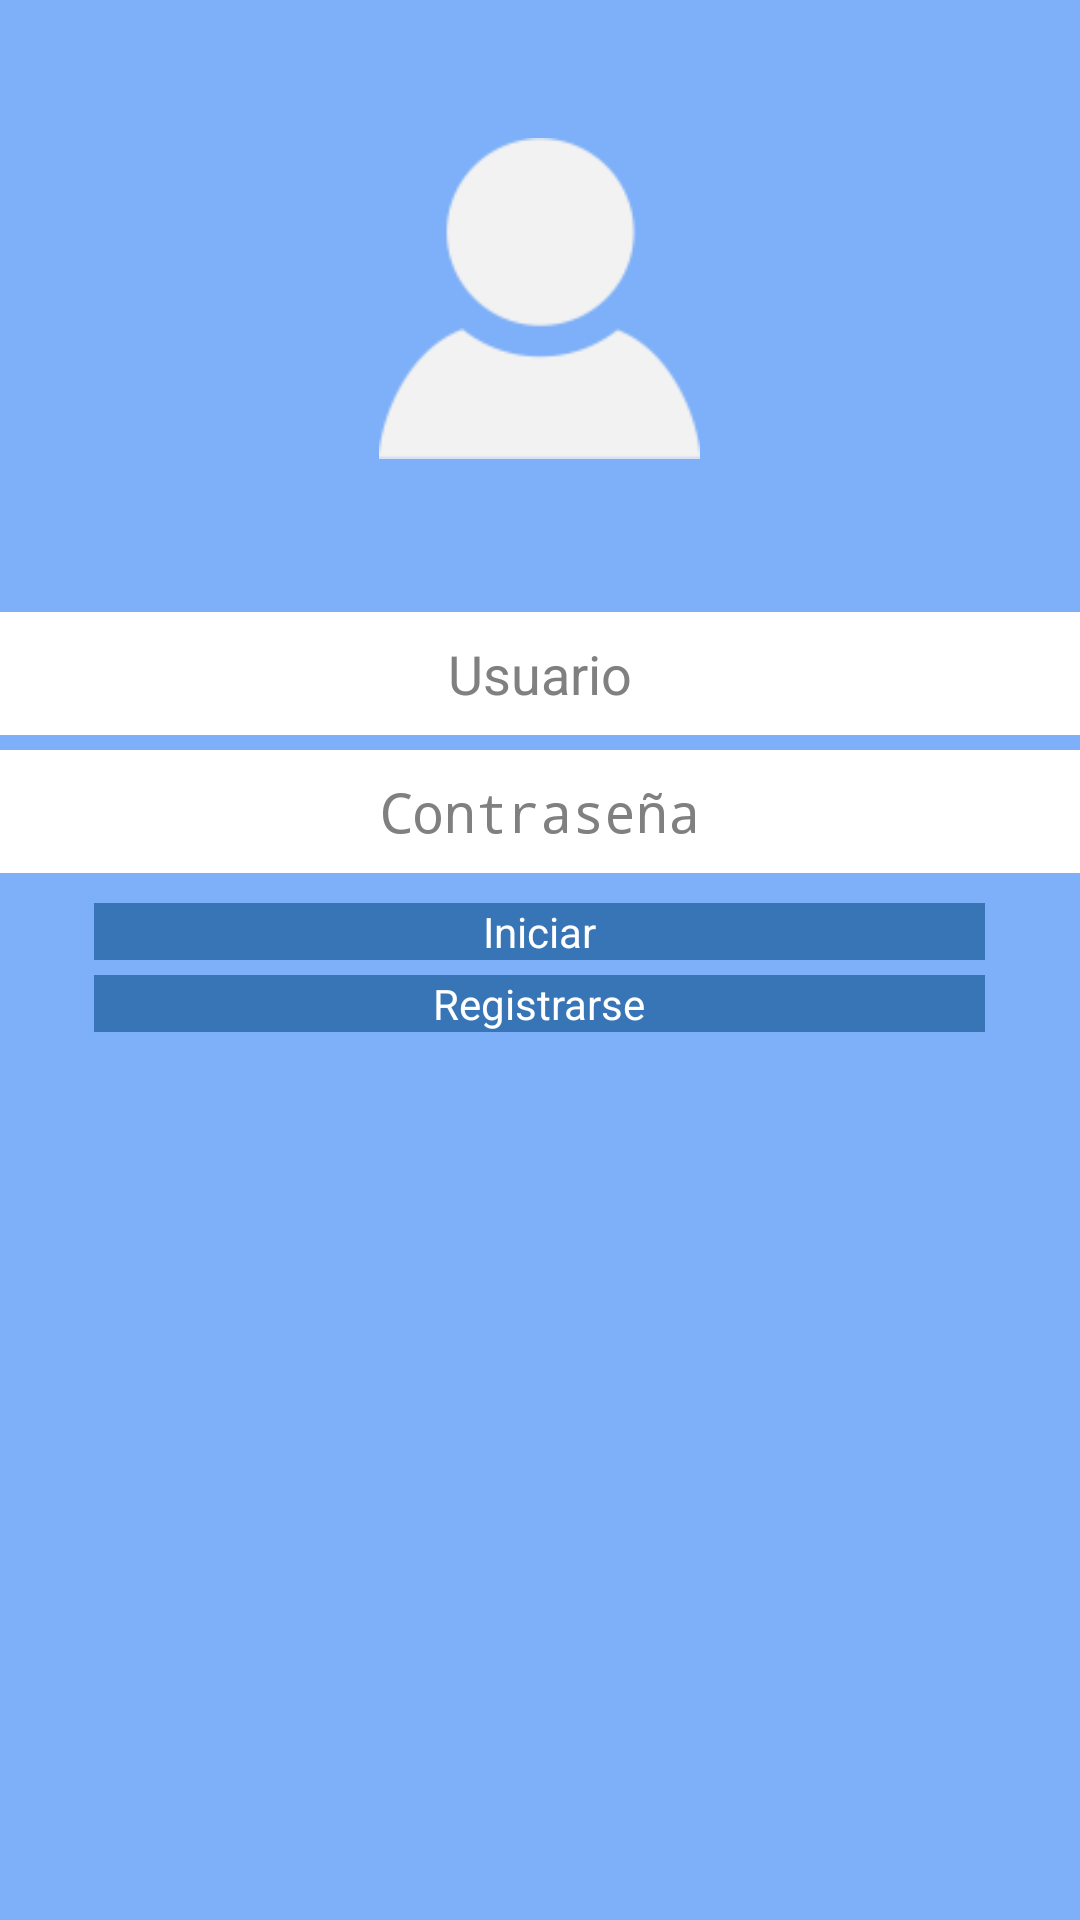

Screen size 1080px x 1920px. Icon name, then its box in pixels as region(x1, y1, x2, y2):
user: region(379, 138, 700, 459)
